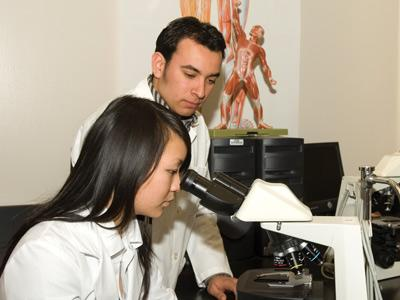person: (2, 96, 192, 300)
